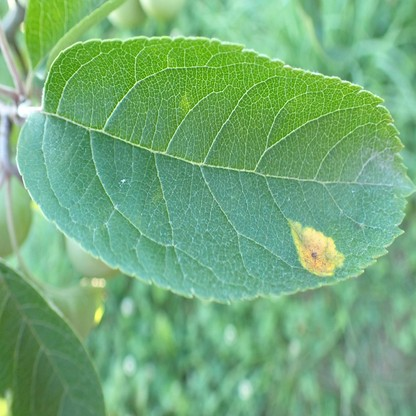rust: (288, 217, 343, 274)
